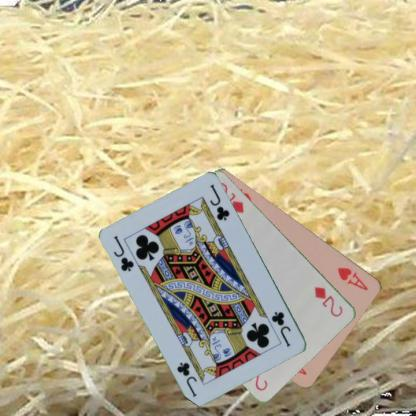2d: (312, 284, 344, 318)
Ah: (335, 264, 370, 292)
Jc: (111, 233, 136, 273), (269, 308, 293, 349)
